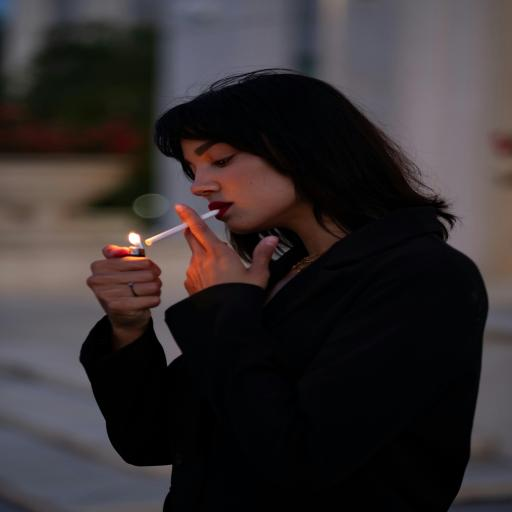terdeteksi merokok: (114, 161, 241, 281)
